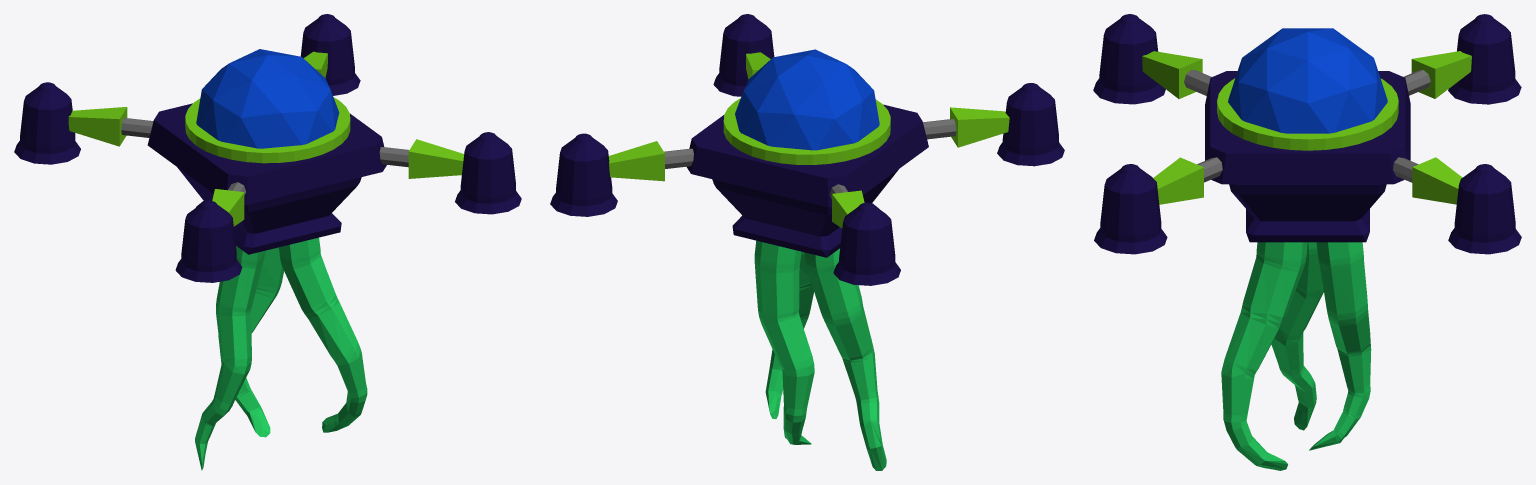
File: jellyfishBoss_0.obj
3 renders of one model, left to right at view 1: azimuth 30°, elevation 25°; view 2: azimuth 150°, elevation 25°; view 3: azimuth 270°, elevation 25°, orthographic. The views are drawn at different scales.
Visible parts, largest first — view 1: Base_Cube.001, Head_Icosphere, Cylinder.002_Cylinder.001, Cylinder.003_Cylinder.002, Rocket_2_Cylinder.014, Rocket_1_Cylinder.003, Rocket_3_Cylinder.016, Cylinder, Rocket_4_Cylinder.018, Cylinder.001_Cylinder.012, B_Arm_1_Cube.002, B_Arm_3_Cube.011 (+3 smaller); view 2: Base_Cube.001, Head_Icosphere, Cylinder.001_Cylinder.012, Cylinder.003_Cylinder.002, Rocket_3_Cylinder.016, Rocket_4_Cylinder.018, Rocket_2_Cylinder.014, Cylinder, Rocket_1_Cylinder.003, B_Arm_4_Cube.012, B_Arm_2_Cube.010, Cylinder.002_Cylinder.001 (+2 smaller); view 3: Base_Cube.001, Head_Icosphere, Cylinder.002_Cylinder.001, Cylinder.001_Cylinder.012, Rocket_1_Cylinder.003, Rocket_4_Cylinder.018, Rocket_3_Cylinder.016, Rocket_2_Cylinder.014, Cylinder.003_Cylinder.002, Cylinder, B_Arm_2_Cube.010, B_Arm_4_Cube.012 (+4 smaller).
Part boxes in pixels (x1,y1,x2,y2): Base_Cube.001: (147, 103, 386, 254); Head_Icosphere: (196, 49, 339, 148); Cylinder.002_Cylinder.001: (279, 237, 367, 432); Cylinder.003_Cylinder.002: (195, 246, 265, 470); Rocket_2_Cylinder.014: (175, 200, 242, 282); Rocket_1_Cylinder.003: (455, 132, 521, 214); Rocket_3_Cylinder.016: (14, 82, 80, 164); Cylinder: (185, 97, 350, 163); Rocket_4_Cylinder.018: (300, 14, 360, 95); Cylinder.001_Cylinder.012: (218, 247, 283, 437); B_Arm_1_Cube.002: (408, 139, 464, 178); B_Arm_3_Cube.011: (68, 107, 127, 146); Base_Cube.001: (686, 104, 928, 257); Head_Icosphere: (735, 49, 879, 150); Cylinder.001_Cylinder.012: (754, 240, 814, 444); Cylinder.003_Cylinder.002: (804, 248, 886, 470); Rocket_3_Cylinder.016: (833, 202, 900, 285); Rocket_4_Cylinder.018: (550, 133, 617, 216); Rocket_2_Cylinder.014: (997, 83, 1064, 166); Cylinder: (723, 98, 890, 164); Rocket_1_Cylinder.003: (713, 14, 774, 96); B_Arm_4_Cube.012: (608, 141, 664, 181); B_Arm_2_Cube.010: (950, 107, 1009, 147); Cylinder.002_Cylinder.001: (765, 251, 813, 419); Base_Cube.001: (1205, 71, 1410, 242); Head_Icosphere: (1228, 28, 1387, 133); Cylinder.002_Cylinder.001: (1221, 242, 1307, 470); Cylinder.001_Cylinder.012: (1309, 242, 1371, 450); Rocket_1_Cylinder.003: (1094, 164, 1167, 254); Rocket_4_Cylinder.018: (1448, 164, 1521, 254); Rocket_3_Cylinder.016: (1448, 14, 1521, 104); Rocket_2_Cylinder.014: (1093, 14, 1165, 104); Cylinder.003_Cylinder.002: (1271, 242, 1323, 430); Cylinder: (1217, 78, 1398, 150); B_Arm_2_Cube.010: (1142, 51, 1202, 98); B_Arm_4_Cube.012: (1412, 157, 1462, 204).
Size of the model in its own units: 14.77 by 16.54 by 14.77.
